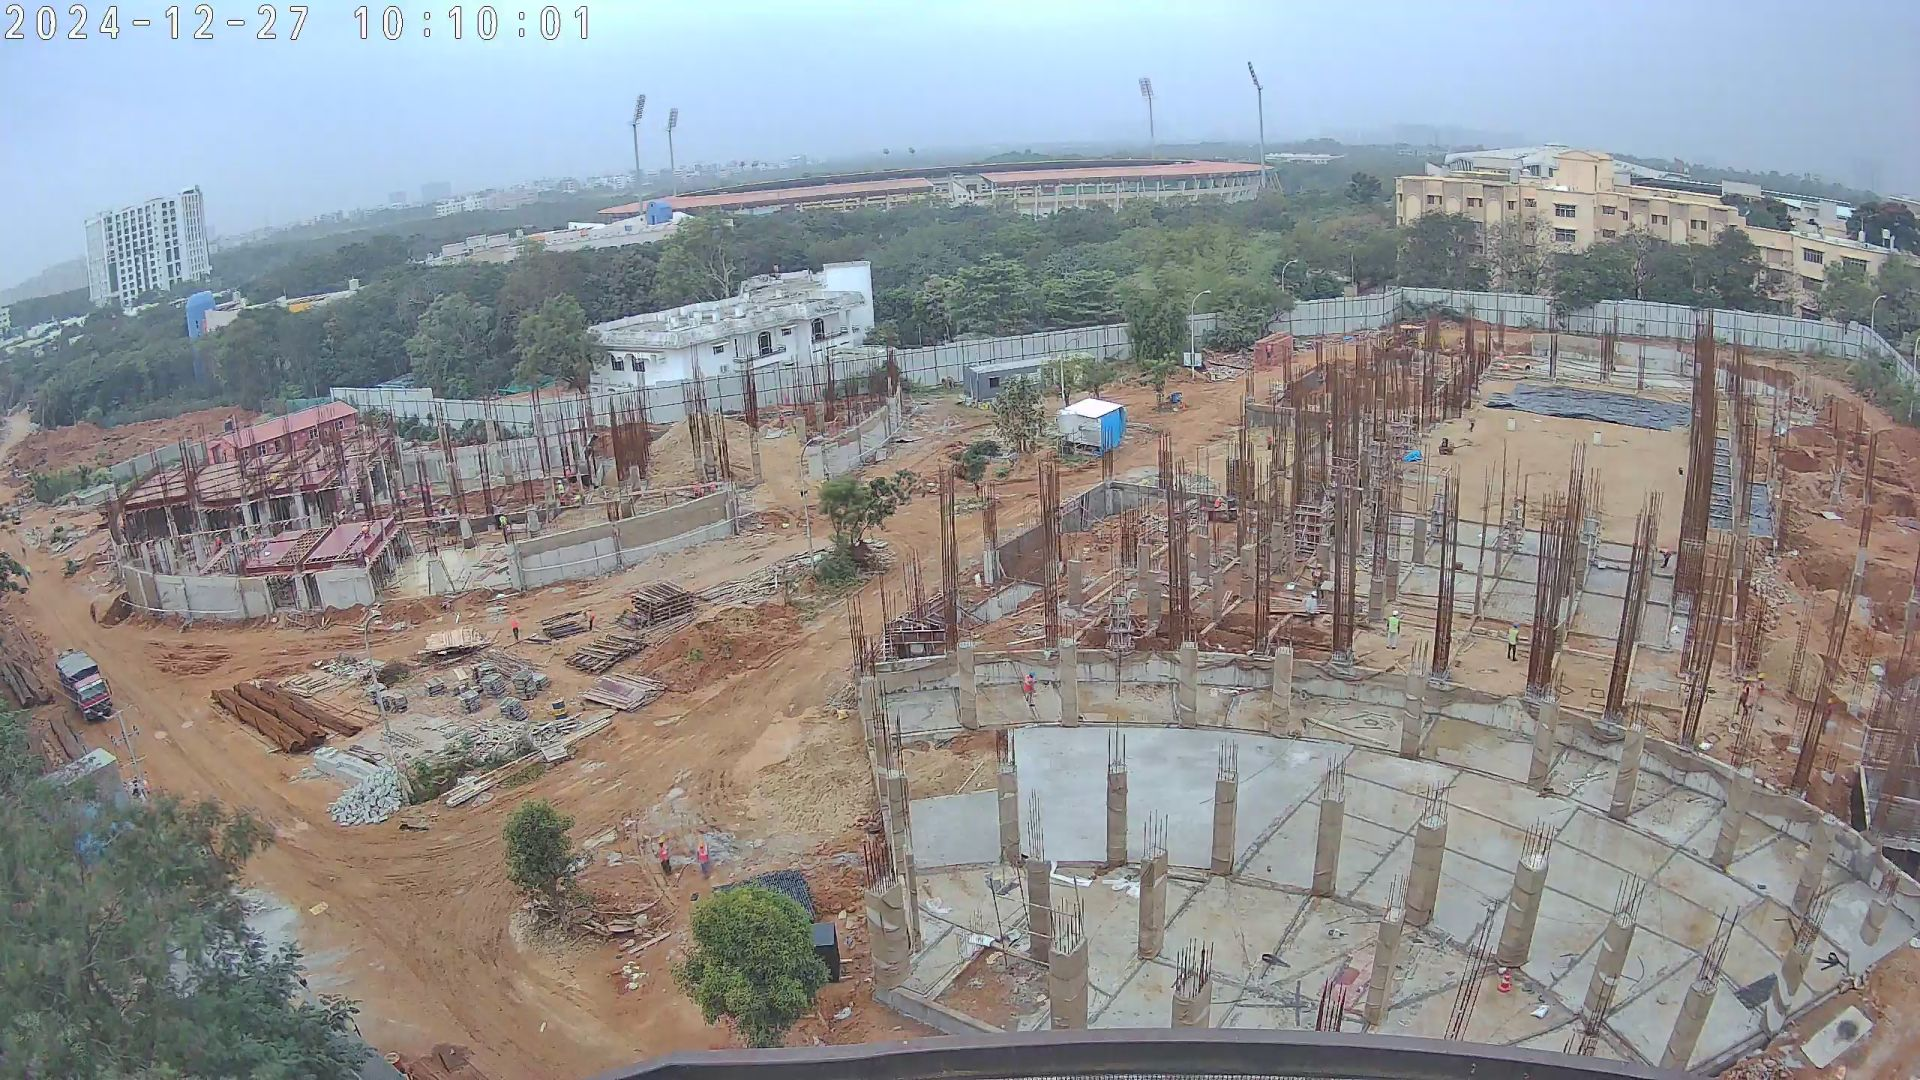bulldozer: (1387, 324, 1451, 363)
truck: (50, 653, 114, 730)
worker: (1380, 606, 1403, 654), (1301, 588, 1323, 636), (1733, 674, 1753, 718), (1024, 667, 1043, 713), (653, 837, 673, 880), (1503, 621, 1519, 660), (1755, 670, 1767, 713), (1654, 543, 1671, 573), (696, 843, 710, 879), (510, 614, 522, 646), (1824, 694, 1833, 733), (490, 500, 503, 527), (249, 531, 260, 557), (1264, 341, 1275, 366), (587, 606, 597, 632), (553, 479, 565, 500), (398, 486, 410, 507), (1212, 493, 1225, 511), (359, 520, 372, 538), (562, 463, 573, 483), (1469, 409, 1477, 436), (1264, 426, 1272, 450), (500, 511, 510, 530), (1325, 417, 1332, 443), (708, 477, 717, 494), (779, 410, 786, 430), (213, 532, 220, 550), (693, 480, 699, 499)
